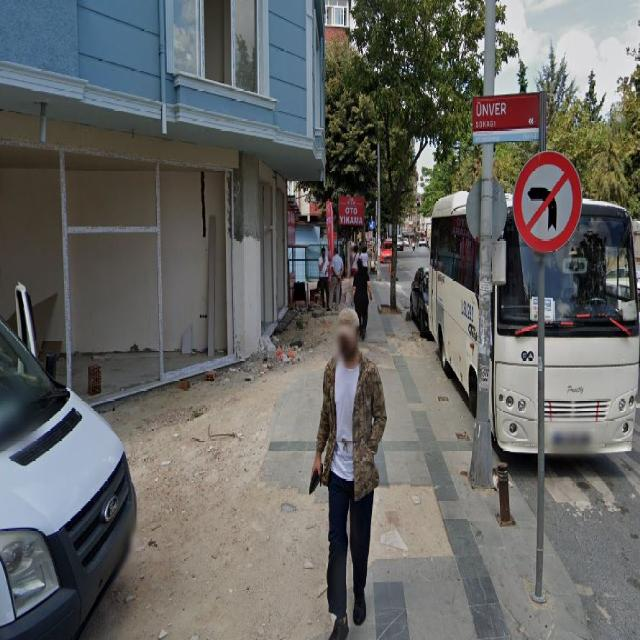soladonulmez: (512, 152, 582, 252)
